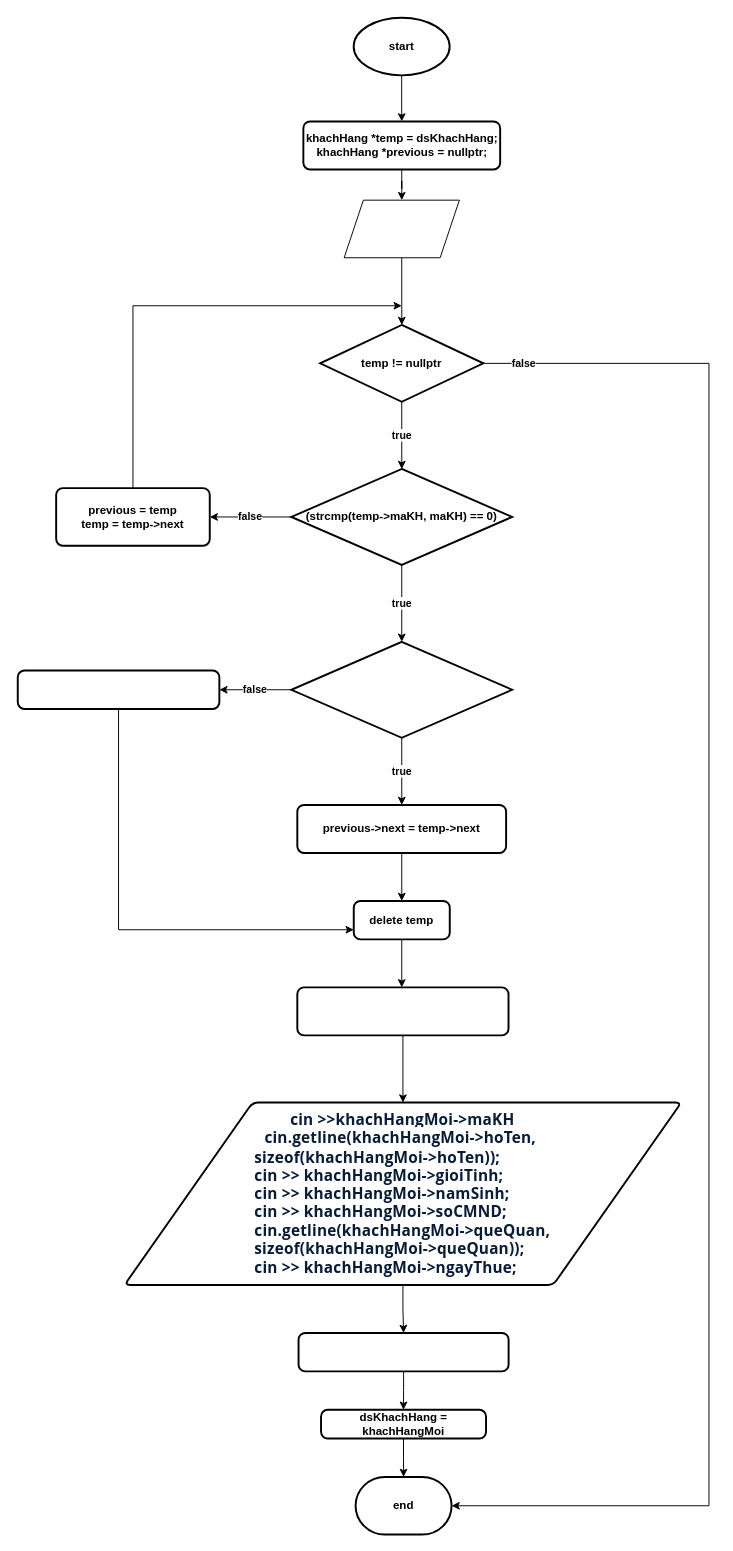
This 733x1551 diagram has some shape labels left out. Here are the shapes that lost their labels. From the top down, the box of each, then its label:
(343, 199, 459, 258): Nhập mã
(16, 669, 220, 709): dsKhachHang = temp->next
(290, 640, 513, 738): previous != nullptr
(296, 986, 509, 1036): khachHang *khachHangMoi = new khachang
(297, 1332, 509, 1372): khachHangMoi->next = dsKhachHang
